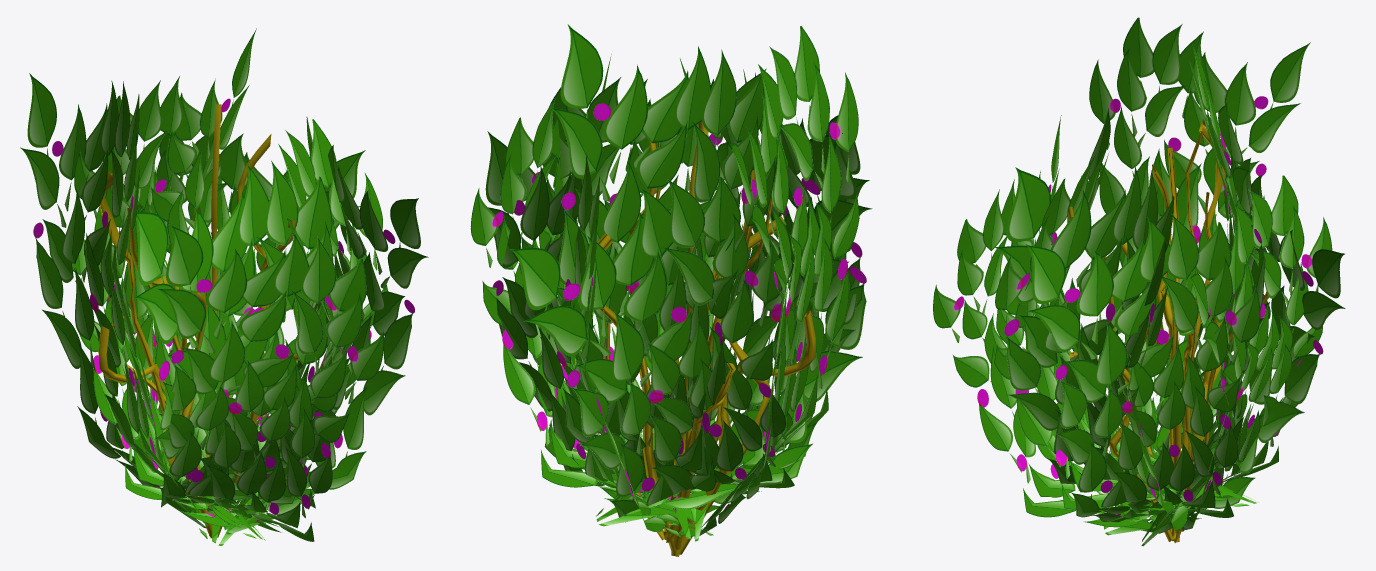
File: bush_tall.fbx
3 views of the same model, side by side, from view 1: azimuth 30°, elevation 25°; view 2: azimuth 150°, elevation 25°; view 3: azimuth 270°, elevation 25° (orthographic). The views are drawn at different scales.
Visible parts, largest first — view 1: pasted__pPlane7, pasted__pPlane4, pasted__pPlane5, pasted__pPlane6, pasted__pPlane1, pasted__pPlane3, pasted__pPlane8, pasted__pPlane2, insideTwigs; view 2: pasted__pPlane3, pasted__pPlane6, pasted__pPlane4, pasted__pPlane2, pasted__pPlane5, pasted__pPlane1, pasted__pPlane8, insideTwigs, pasted__pPlane7; view 3: pasted__pPlane1, pasted__pPlane8, pasted__pPlane4, pasted__pPlane2, pasted__pPlane7, pasted__pPlane3, pasted__pPlane5, pasted__pPlane6, insideTwigs.
Part boxes in pixels (bbox=[...]): pasted__pPlane7: bbox=[156, 224, 384, 541]; pasted__pPlane4: bbox=[20, 73, 208, 528]; pasted__pPlane5: bbox=[131, 160, 362, 508]; pasted__pPlane6: bbox=[74, 28, 265, 525]; pasted__pPlane1: bbox=[224, 117, 428, 534]; pasted__pPlane3: bbox=[72, 143, 265, 540]; pasted__pPlane8: bbox=[159, 119, 388, 504]; pasted__pPlane2: bbox=[137, 133, 365, 545]; insideTwigs: bbox=[98, 104, 298, 538]; pasted__pPlane3: bbox=[509, 177, 794, 522]; pasted__pPlane6: bbox=[549, 24, 775, 499]; pasted__pPlane4: bbox=[694, 25, 859, 538]; pasted__pPlane2: bbox=[485, 131, 713, 536]; pasted__pPlane5: bbox=[596, 58, 872, 526]; pasted__pPlane1: bbox=[470, 54, 643, 500]; pasted__pPlane8: bbox=[518, 68, 766, 541]; insideTwigs: bbox=[584, 121, 815, 556]; pasted__pPlane7: bbox=[706, 69, 869, 513]; pasted__pPlane1: bbox=[1025, 213, 1260, 522]; pasted__pPlane8: bbox=[994, 166, 1223, 530]; pasted__pPlane4: bbox=[1089, 17, 1310, 467]; pasted__pPlane2: bbox=[1141, 175, 1332, 533]; pasted__pPlane7: bbox=[933, 115, 1148, 527]; pasted__pPlane3: bbox=[1103, 156, 1345, 535]; pasted__pPlane5: bbox=[994, 108, 1256, 510]; pasted__pPlane6: bbox=[1141, 44, 1265, 546]; insideTwigs: bbox=[1068, 119, 1269, 542].
Size of the model in its own units: 4.51 by 6.51 by 5.43.
